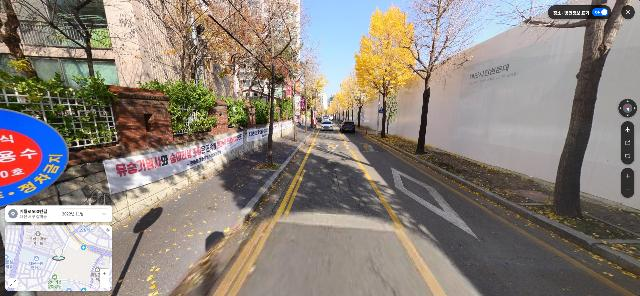ginkgo: (352, 1, 418, 138), (298, 68, 328, 130), (341, 72, 372, 131), (337, 75, 360, 121), (333, 88, 348, 122)
other: (487, 0, 640, 219), (196, 0, 317, 169), (363, 0, 493, 154), (121, 0, 226, 81), (279, 35, 327, 142)
